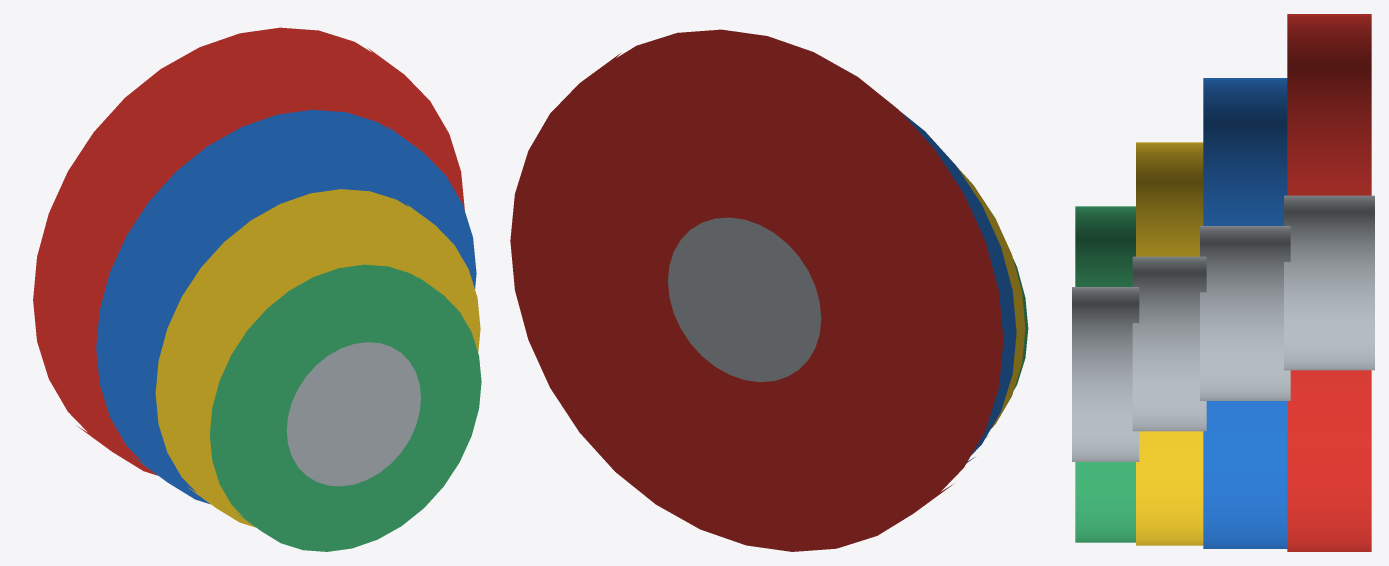
The model's file is delta-change-plates.glb.
The picture shows the model from 3 angles, left to right: view 1: azimuth 30°, elevation 25°; view 2: azimuth 150°, elevation 25°; view 3: azimuth 270°, elevation 25°; orthographic projection. The views are drawn at different scales.
Visible parts, largest first — view 1: Delta red parts, Delta green parts, Delta blue parts, Delta yellow parts, Brushed steel hubs parts; view 2: Delta red parts, Brushed steel hubs parts, Delta blue parts, Delta yellow parts; view 3: Brushed steel hubs parts, Delta red parts, Delta blue parts, Delta yellow parts, Delta green parts.
Boxes of the visible parts, x1,y1,x2,y2 form: Delta red parts: [33, 27, 464, 475]; Delta green parts: [209, 264, 481, 551]; Delta blue parts: [96, 109, 476, 504]; Delta yellow parts: [155, 189, 480, 527]; Brushed steel hubs parts: [286, 342, 420, 486]; Delta red parts: [510, 29, 1003, 551]; Brushed steel hubs parts: [668, 217, 821, 382]; Delta blue parts: [900, 111, 1016, 463]; Delta yellow parts: [957, 167, 1025, 437]; Brushed steel hubs parts: [1072, 195, 1374, 461]; Delta red parts: [1287, 14, 1371, 551]; Delta blue parts: [1203, 78, 1287, 548]; Delta yellow parts: [1136, 142, 1203, 545]; Delta green parts: [1075, 206, 1135, 542].
Bounding box in the file's own units: 0.32 × 0.32 × 0.18.
